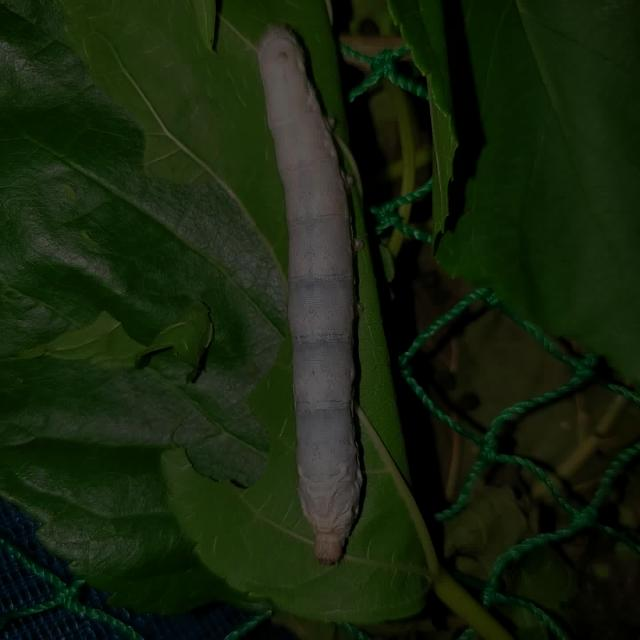Healthy: (250, 17, 399, 572)
